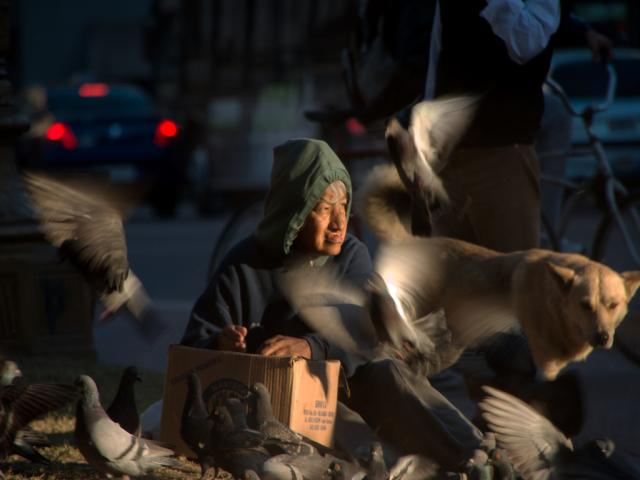Dog: (353, 164, 640, 417)
